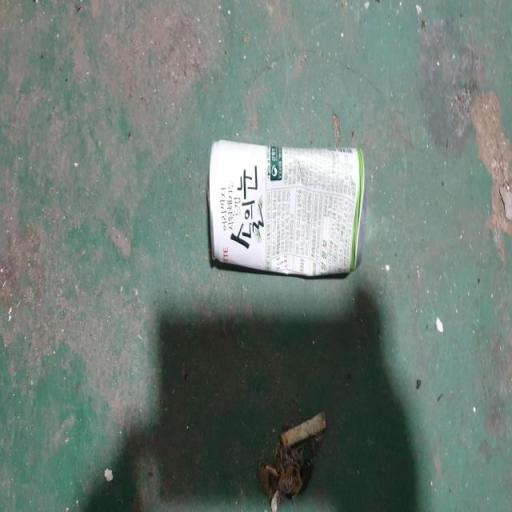metal: (200, 114, 374, 308)
